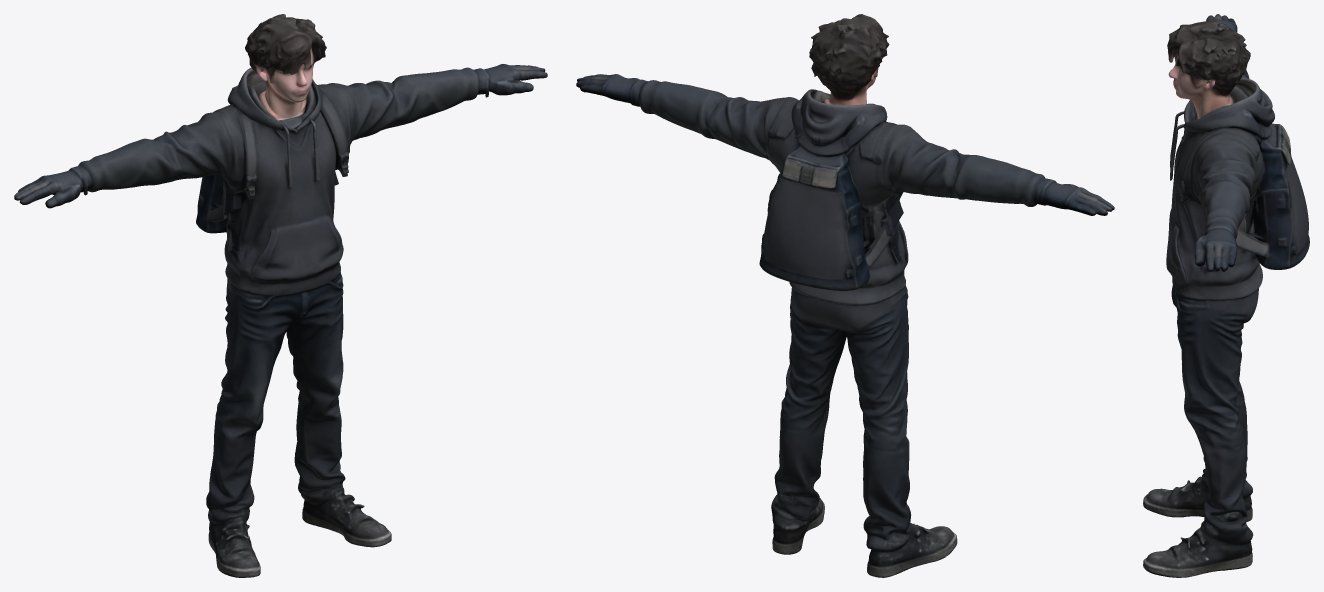
The model's file is alex_trellis2.glb.
The picture shows the model from 3 angles, left to right: view 1: azimuth 30°, elevation 25°; view 2: azimuth 150°, elevation 25°; view 3: azimuth 270°, elevation 25°; orthographic projection. The views are drawn at different scales.
Visible parts, largest first — view 1: world; view 2: world; view 3: world.
Boxes of the visible parts, x1,y1,x2,y2 form: world: (14, 14, 547, 577); world: (576, 14, 1114, 577); world: (1143, 14, 1309, 577).
Size of the model in its own units: 1 by 0.9438 by 0.2768.
1 material, 1 textured.
